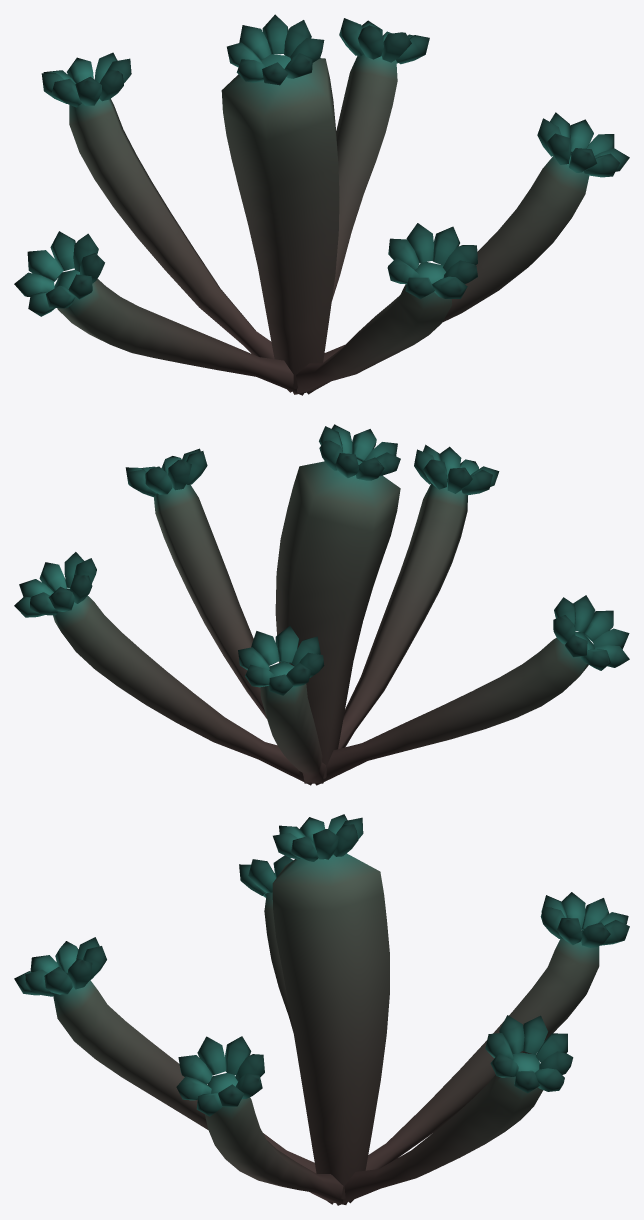
File: plants-cacti-succulents-fan-succulent_v5.fbx
3 renders of one model, top to bottom at view 1: azimuth 30°, elevation 25°; view 2: azimuth 150°, elevation 25°; view 3: azimuth 270°, elevation 25°, orthographic. The views are drawn at different scales.
Parts seen in each view (by area): view 1: Fan Succulent_v5; view 2: Fan Succulent_v5; view 3: Fan Succulent_v5.
Boxes of the visible parts, <box> form: Fan Succulent_v5: <box>14,14,629,395</box>; Fan Succulent_v5: <box>14,424,629,785</box>; Fan Succulent_v5: <box>14,814,629,1205</box>.
Size of the model in its own units: 0.3 by 0.1916 by 0.2893.
